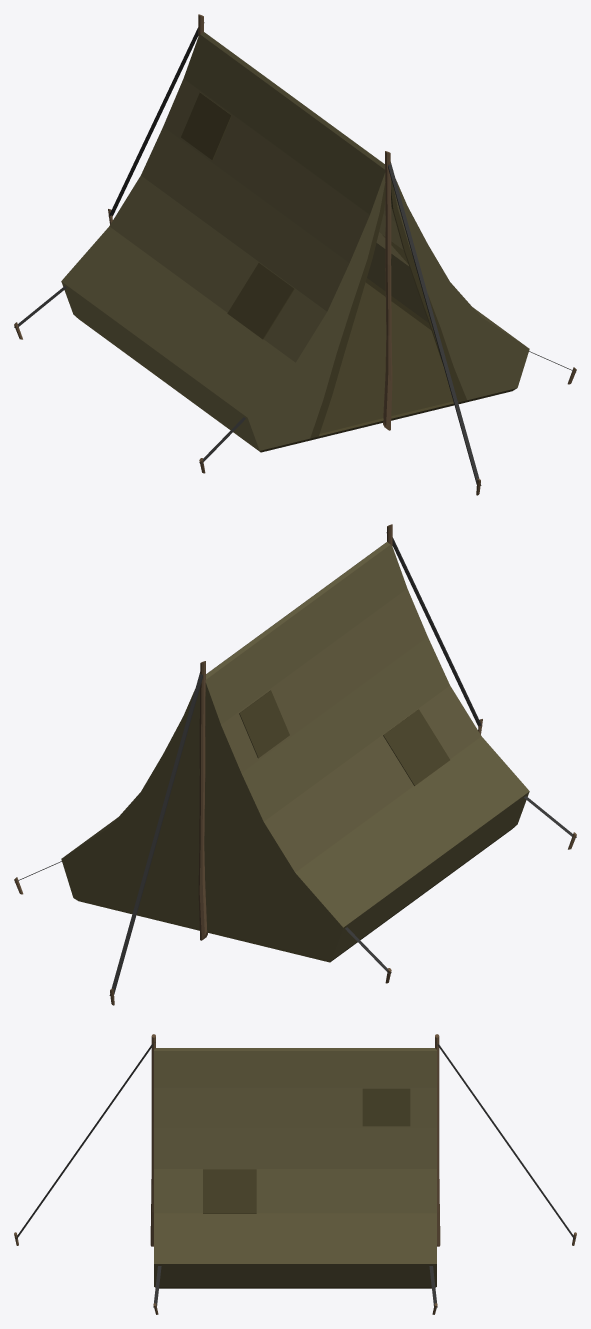
The model's file is tent.glb.
3 renders of one model, top to bottom at view 1: azimuth 30°, elevation 25°; view 2: azimuth 150°, elevation 25°; view 3: azimuth 270°, elevation 25°, orthographic. The views are drawn at different scales.
Parts seen in each view (by area): view 1: Tent; view 2: Tent; view 3: Tent.
Boxes of the visible parts, x1,y1,x2,y2 form: Tent: [14, 14, 576, 495]; Tent: [14, 524, 576, 1005]; Tent: [14, 1034, 576, 1314].
Bounding box in the file's own units: 14.58 × 10.32 × 24.87.
